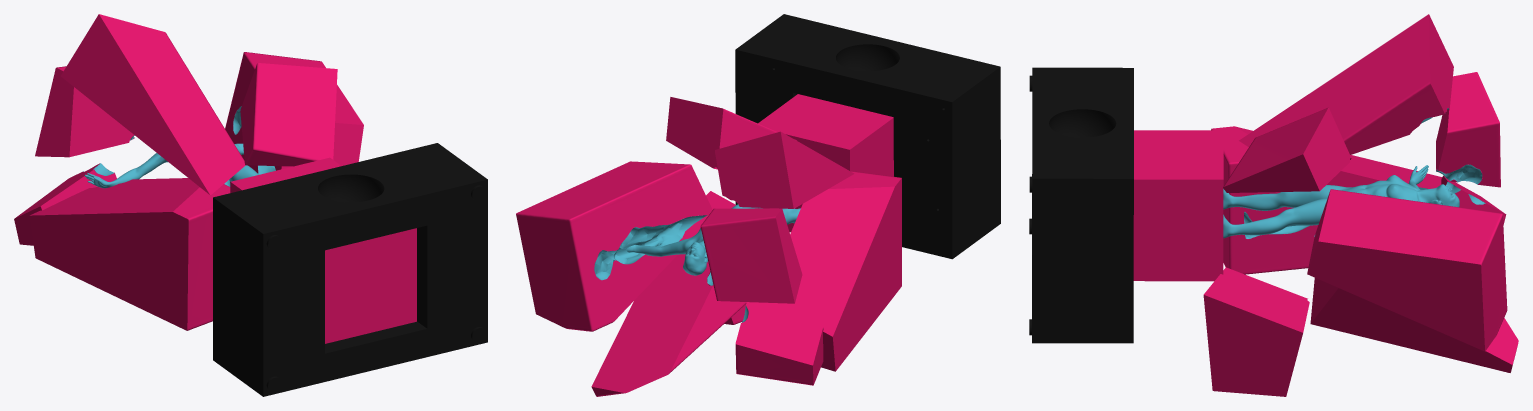
The model's file is asset.glb.
The picture shows the model from 3 angles, left to right: view 1: azimuth 30°, elevation 25°; view 2: azimuth 150°, elevation 25°; view 3: azimuth 270°, elevation 25°; orthographic projection. The views are drawn at different scales.
Visible parts, largest first — view 1: mesh, BLOQUES.002, BLOQUES.001, BASE MUJER, BLOQUES.000, BLOQUES.003, BLOQUES.005, Group16064.006, Group42257; view 2: mesh, BLOQUES.005, BLOQUES.002, BLOQUES.004, BLOQUES.003, BLOQUES.001, BASE MUJER, Group16064.006, BLOQUES.000, Group42257, BLOQUES; view 3: mesh, BLOQUES.005, BASE MUJER, BLOQUES.001, BLOQUES, BLOQUES.002, BLOQUES.000, BLOQUES.004, BLOQUES.003, Group42257, Group16064.006.
Part boxes in pixels (x1=…): mesh: x1=213, y1=143, x2=487, y2=396; BLOQUES.002: x1=29, y1=178, x2=230, y2=330; BLOQUES.001: x1=61, y1=14, x2=245, y2=195; BASE MUJER: x1=230, y1=157, x2=416, y2=343; BLOQUES.000: x1=240, y1=63, x2=337, y2=166; BLOQUES.003: x1=35, y1=66, x2=134, y2=157; BLOQUES.005: x1=225, y1=52, x2=363, y2=174; Group16064.006: x1=14, y1=163, x2=116, y2=245; Group42257: x1=84, y1=143, x2=258, y2=188; mesh: x1=735, y1=14, x2=1000, y2=259; BLOQUES.005: x1=516, y1=161, x2=712, y2=331; BLOQUES.002: x1=782, y1=171, x2=901, y2=371; BLOQUES.004: x1=591, y1=254, x2=746, y2=396; BLOQUES.003: x1=700, y1=208, x2=802, y2=303; BLOQUES.001: x1=715, y1=131, x2=854, y2=208; BASE MUJER: x1=758, y1=94, x2=893, y2=232; Group16064.006: x1=735, y1=302, x2=823, y2=385; BLOQUES.000: x1=666, y1=97, x2=796, y2=169; Group42257: x1=626, y1=204, x2=800, y2=275; BLOQUES: x1=680, y1=191, x2=745, y2=324; mesh: x1=1029, y1=67, x2=1133, y2=343; BLOQUES.005: x1=1307, y1=189, x2=1507, y2=351; BASE MUJER: x1=1133, y1=130, x2=1223, y2=281; BLOQUES.001: x1=1239, y1=14, x2=1453, y2=154; BLOQUES: x1=1203, y1=267, x2=1309, y2=396; BLOQUES.002: x1=1211, y1=126, x2=1441, y2=274; BLOQUES.000: x1=1223, y1=107, x2=1351, y2=192; BLOQUES.004: x1=1310, y1=278, x2=1518, y2=372; BLOQUES.003: x1=1436, y1=72, x2=1500, y2=187; Group42257: x1=1223, y1=165, x2=1459, y2=238; Group16064.006: x1=1441, y1=175, x2=1506, y2=225.
Bounding box in the file's own units: 20.9 × 18.77 × 28.26.
